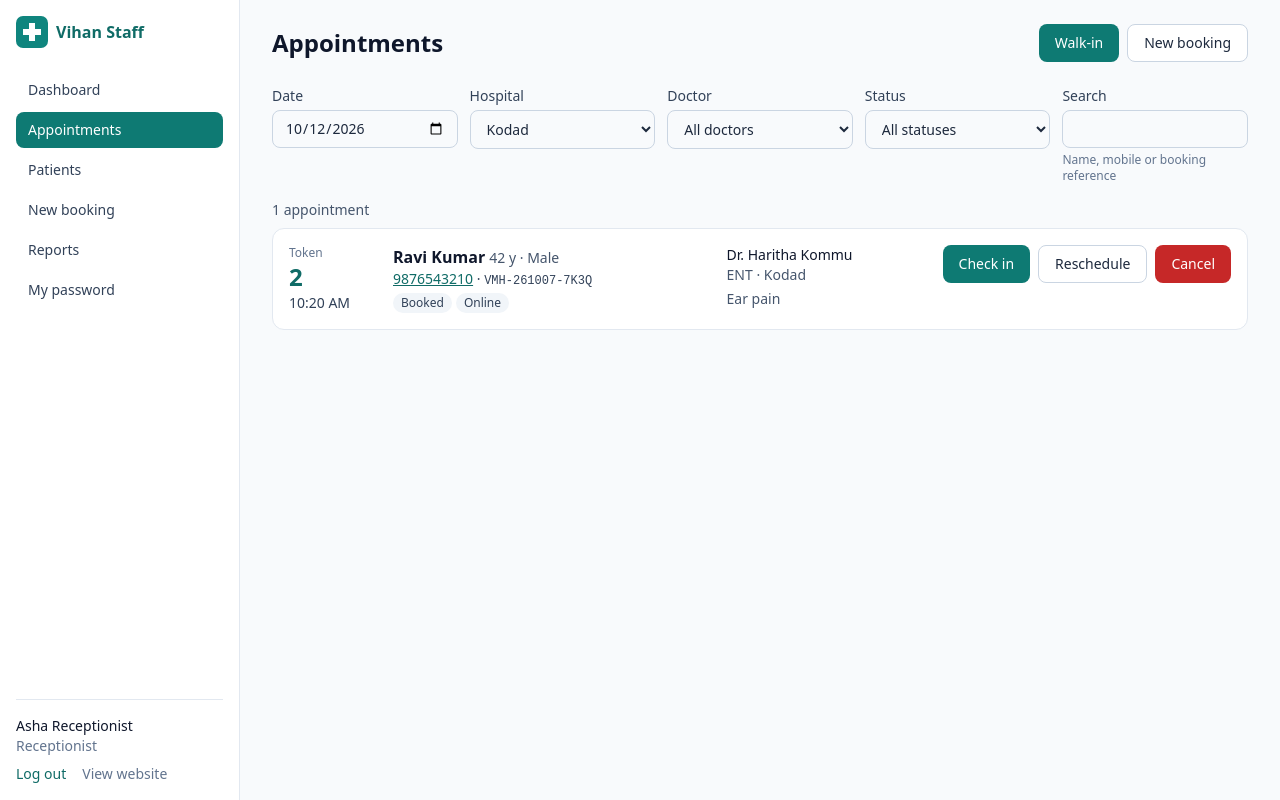
Scenario: Appointments (reception) › needs a reason to cancel
This screenshot has width=1280, height=800.
Click the button "Cancel". click: [1193, 264]
box: [1155,245,1231,283]
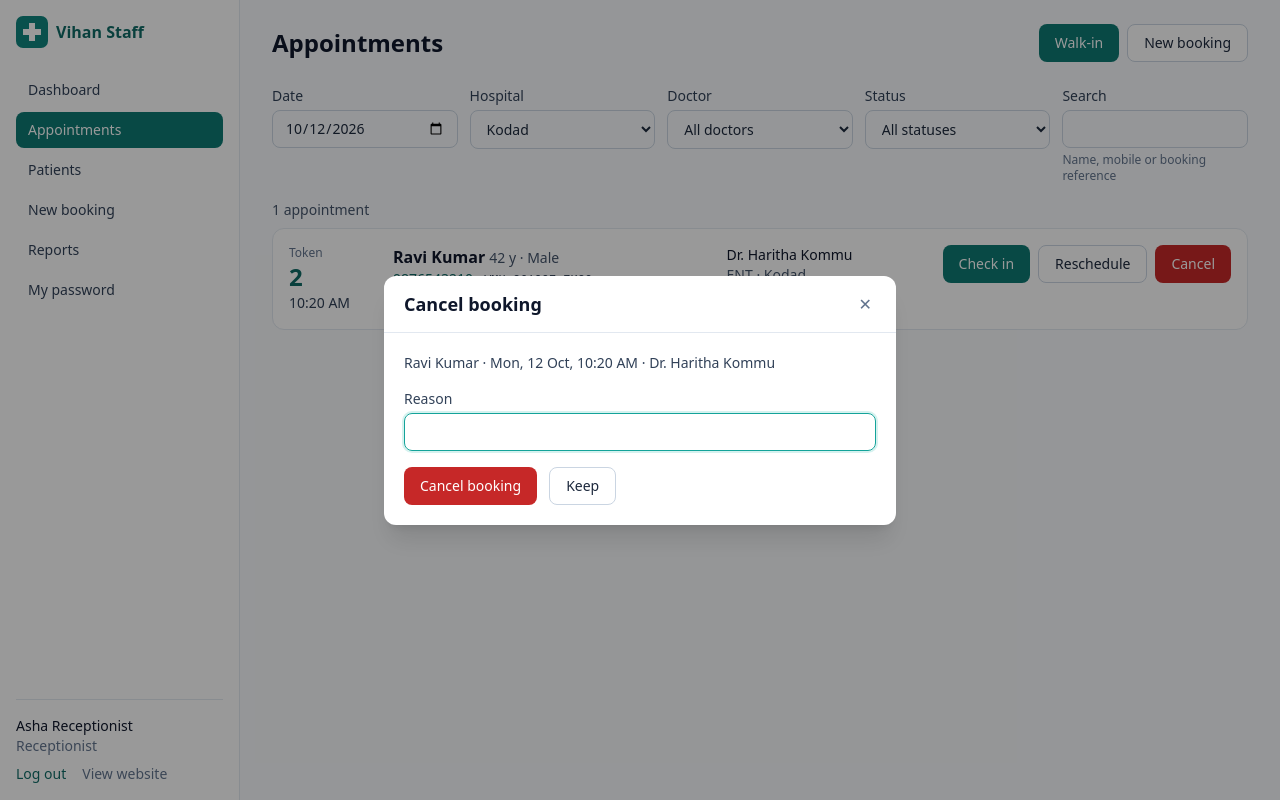
Click the button "Cancel booking". click: [471, 486]
box: [404,466,537,504]
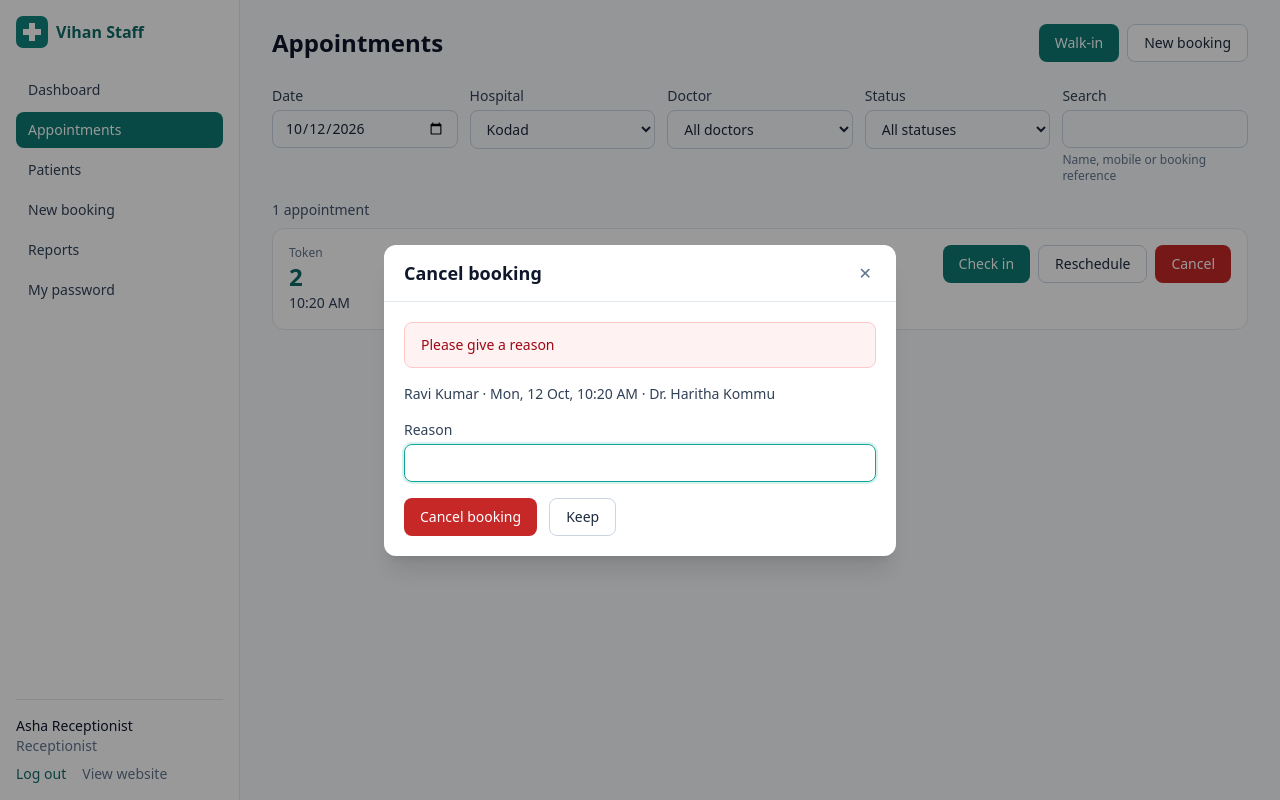
Now the text "Please give a reason" is shown, box [404,322,876,368]
Type "Patient phoned" into the field labelled "Reason". click: [640, 462]
box: [404,444,876,482]
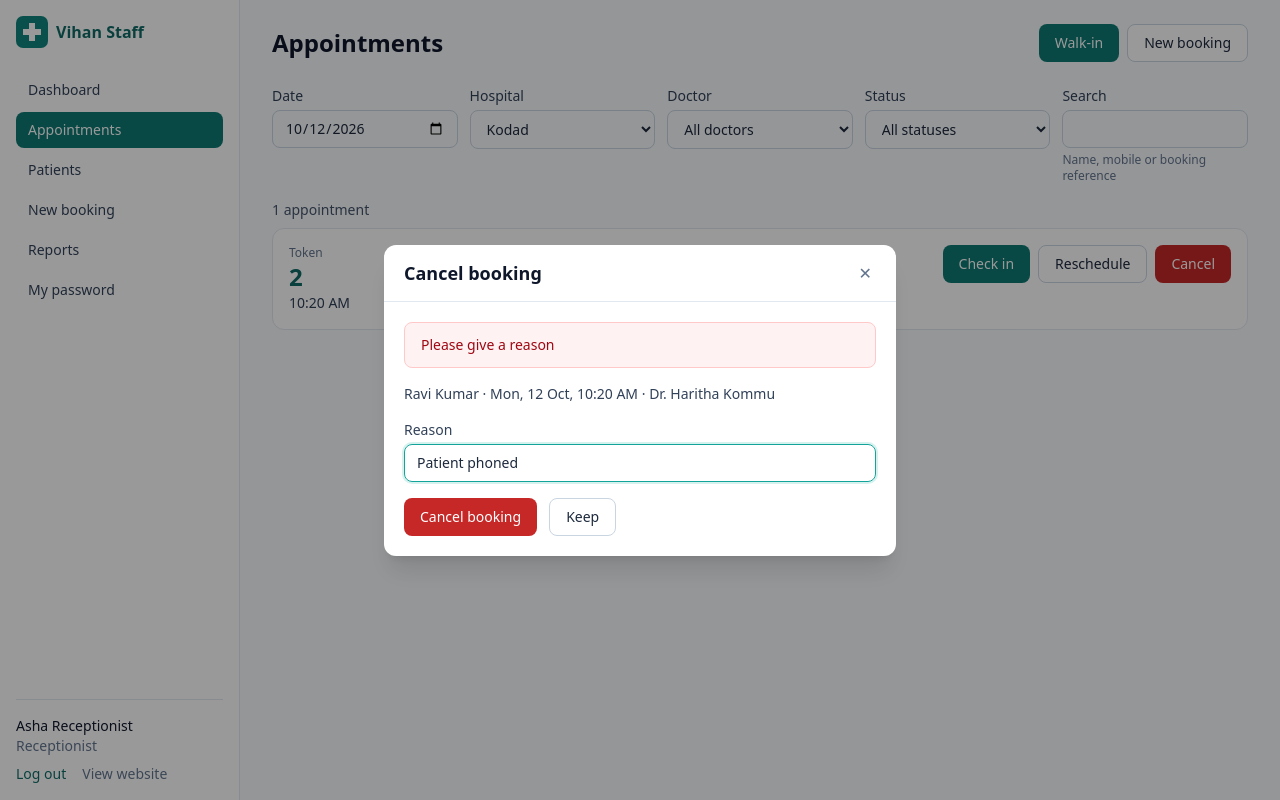
Click the button "Cancel booking". click: [471, 516]
box: [404,498,537,536]
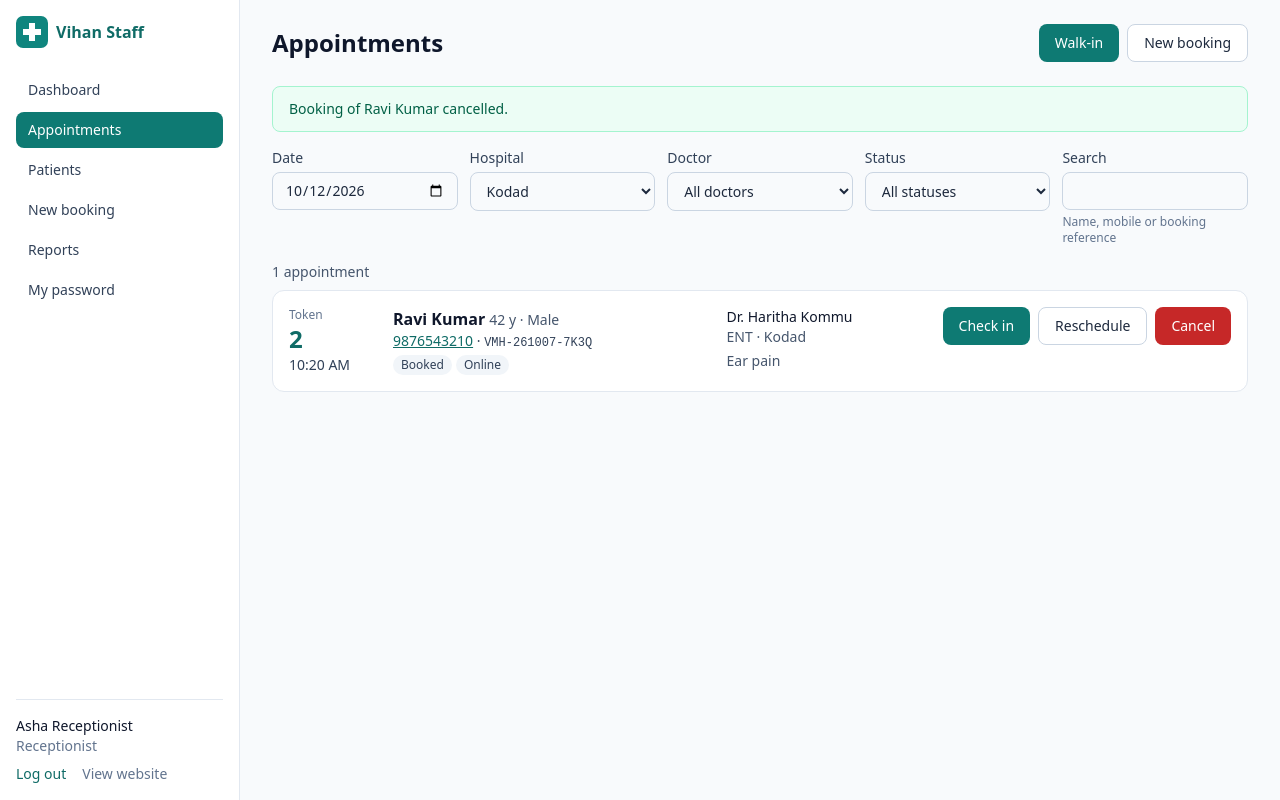
Now the text "Booking of Ravi Kumar cancelled." is shown, box [272,86,1248,132]
